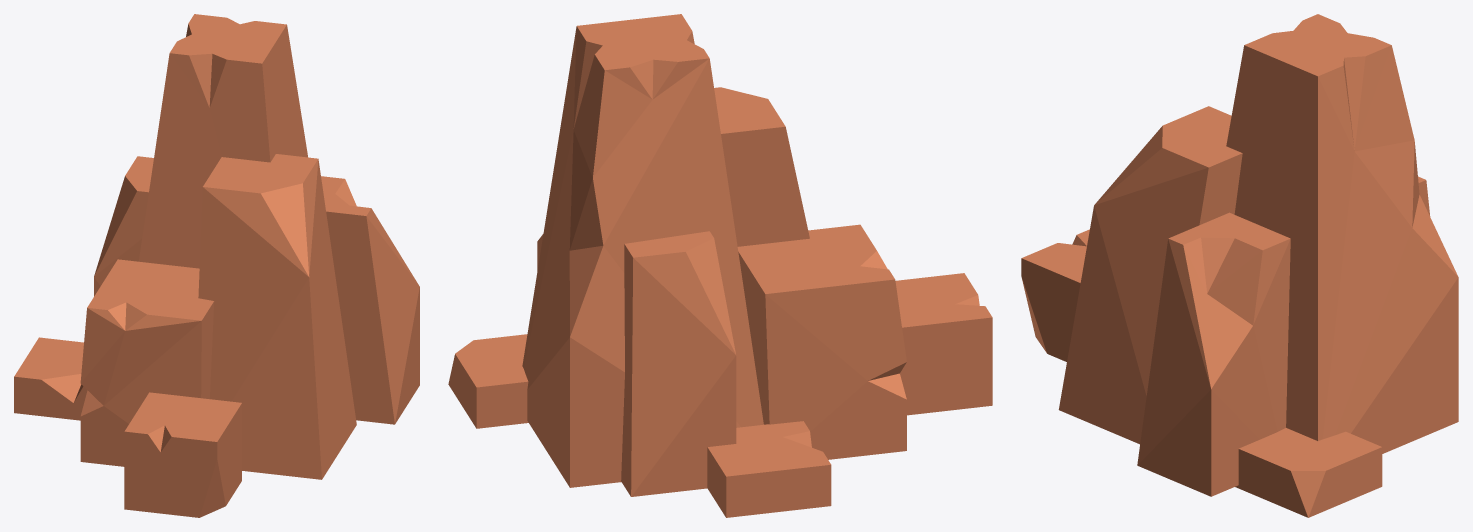
File: rock02.glb
3 renders of one model, left to right at view 1: azimuth 30°, elevation 25°; view 2: azimuth 150°, elevation 25°; view 3: azimuth 270°, elevation 25°, orthographic. The views are drawn at different scales.
Parts seen in each view (by area): view 1: rock_02; view 2: rock_02; view 3: rock_02.
Boxes of the visible parts, x1,y1,x2,y2 form: rock_02: [14, 14, 419, 517]; rock_02: [448, 14, 992, 517]; rock_02: [1021, 14, 1458, 517].
Bounding box in the file's own units: 3.61 × 3.14 × 3.28.
Materials: 1 (1 with a texture image).
